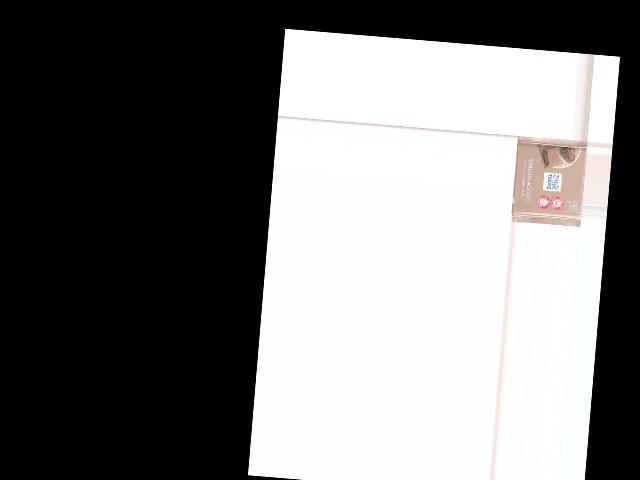chocolate: (510, 135, 587, 225)
